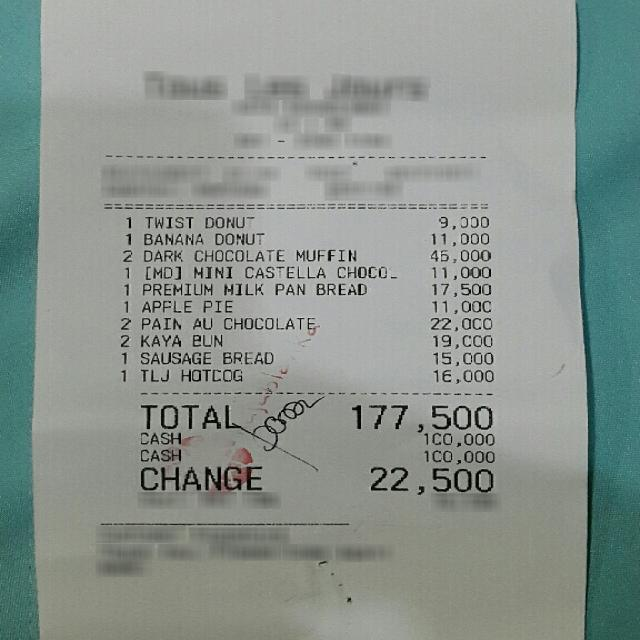kertas: (33, 0, 587, 640)
